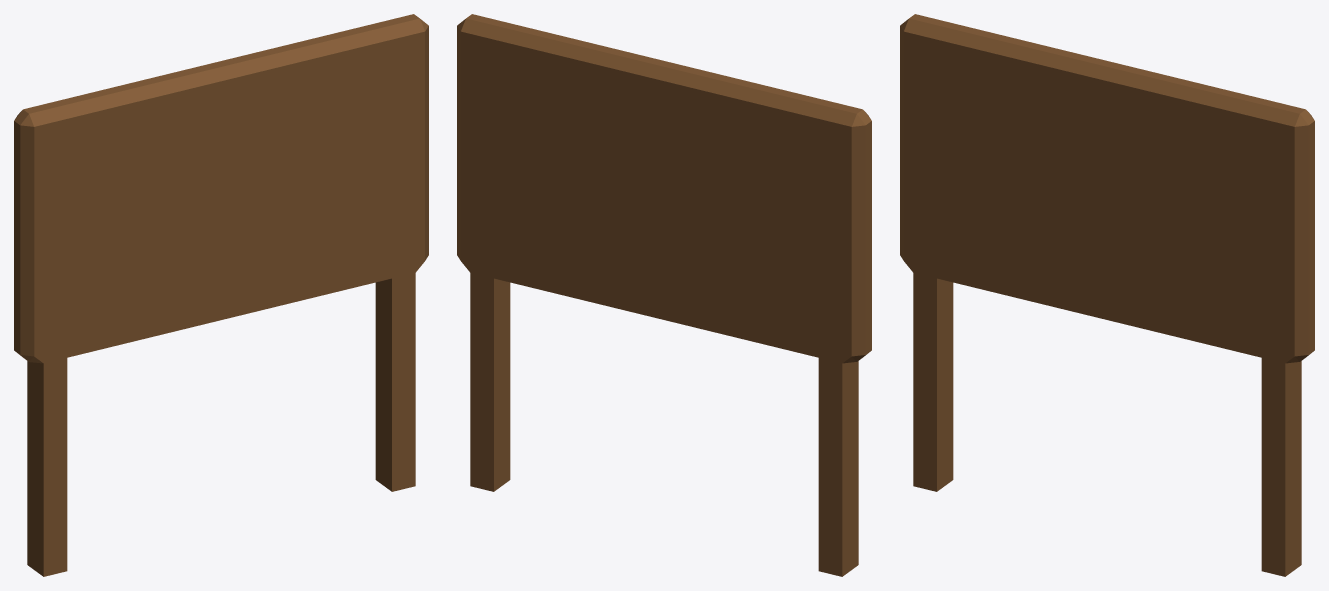
File: Placa2.fbx
The picture shows the model from 3 angles, left to right: view 1: azimuth 30°, elevation 25°; view 2: azimuth 150°, elevation 25°; view 3: azimuth 330°, elevation 25°; orthographic projection.
Parts seen in each view (by area): view 1: Placa-2; view 2: Placa-2; view 3: Placa-2.
Boxes of the visible parts, x1,y1,x2,y2 form: Placa-2: (14,14,428,576); Placa-2: (457,14,871,576); Placa-2: (900,14,1314,576).
Bounding box in the file's own units: 106 × 114 × 7.35.
